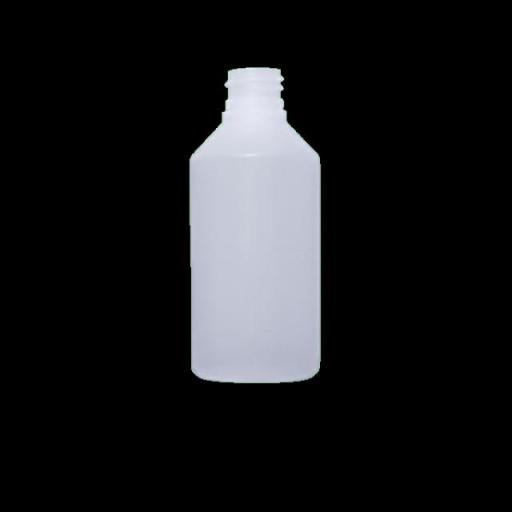plastic: (182, 65, 327, 391)
